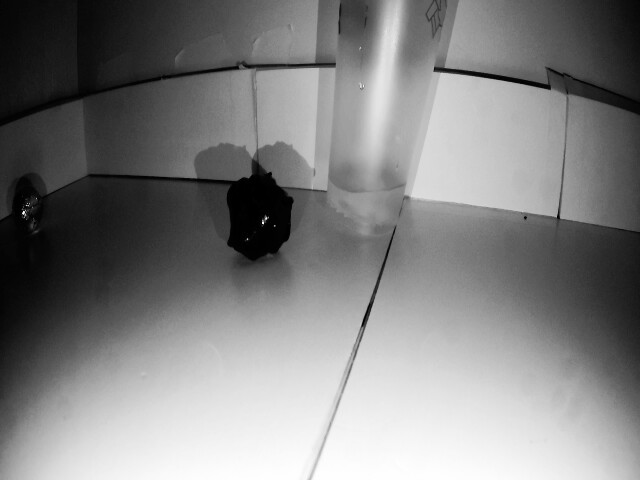black: (221, 174, 301, 267)
silver: (12, 189, 47, 237)
